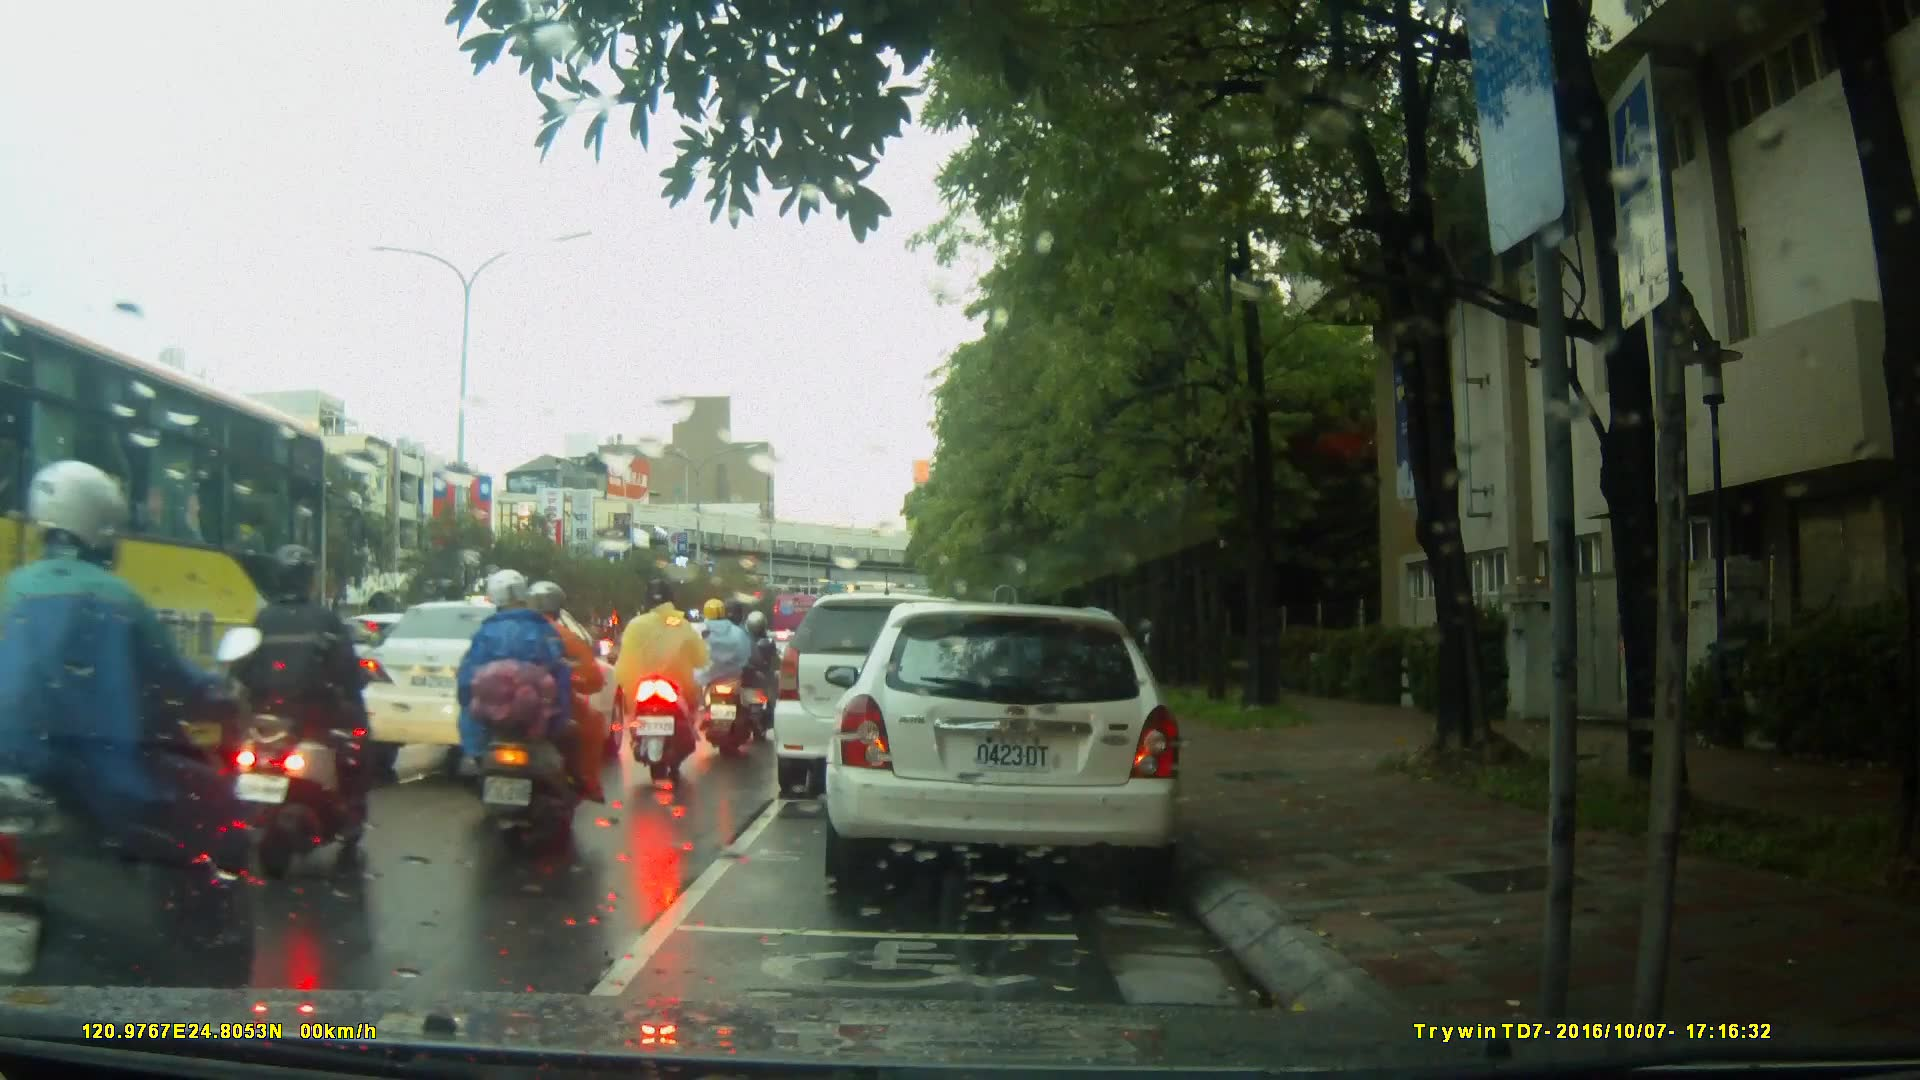rider: (1, 472, 287, 1014), (208, 541, 374, 866), (456, 573, 610, 845), (606, 570, 708, 784), (698, 595, 759, 751), (730, 612, 783, 736)
vehicle: (1, 299, 339, 828), (835, 594, 1194, 898), (356, 599, 629, 781), (776, 590, 1026, 784)
